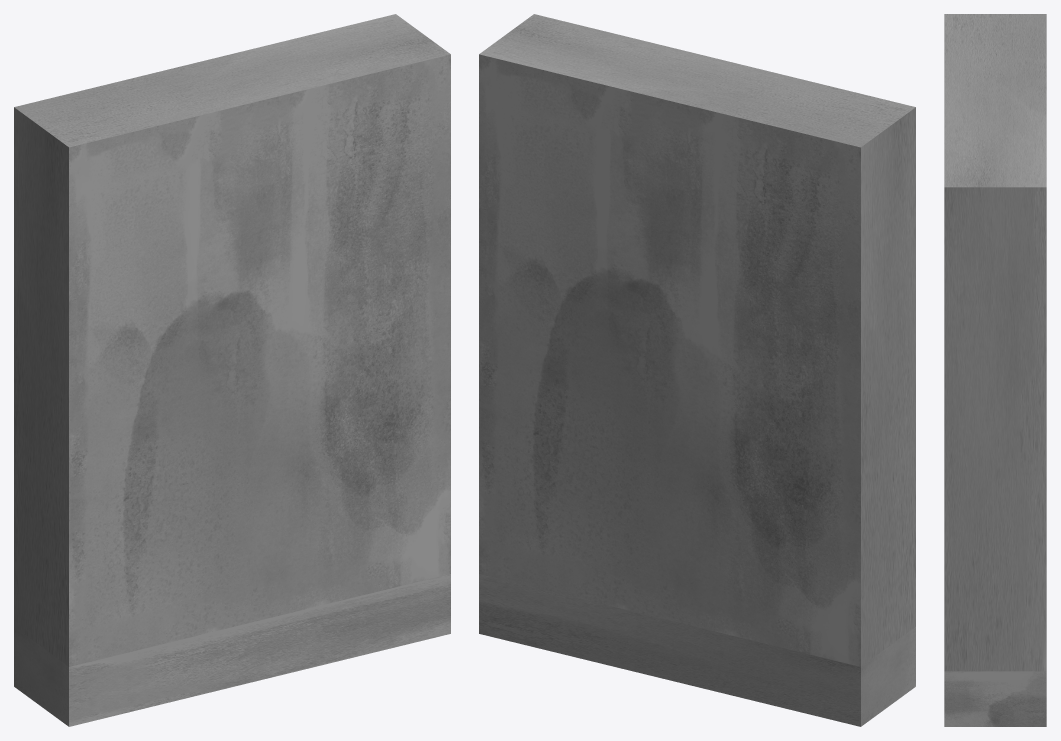
File: Wall_2.fbx
The picture shows the model from 3 angles, left to right: view 1: azimuth 30°, elevation 25°; view 2: azimuth 150°, elevation 25°; view 3: azimuth 270°, elevation 25°; orthographic projection. The views are drawn at different scales.
Parts seen in each view (by area): view 1: Wand normal.001, Cube.004; view 2: Wand normal.001, Cube.004; view 3: Wand normal.001, Cube.004.
Boxes of the visible parts, x1,y1,x2,y2 form: Wand normal.001: (14,14,450,666); Cube.004: (14,574,450,726); Wand normal.001: (479,14,915,666); Cube.004: (479,574,915,726); Wand normal.001: (944,14,1046,671); Cube.004: (944,671,1046,726).
Bounding box in the file's own units: 200 × 290 × 50.
